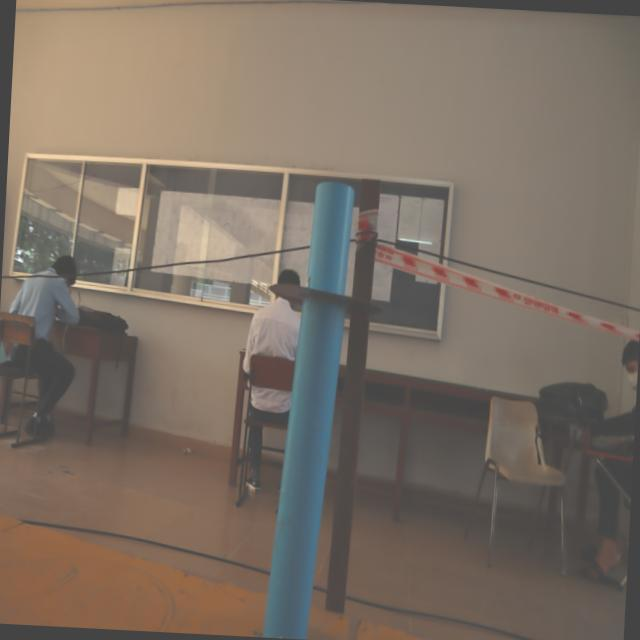pole: (243, 156, 402, 442)
